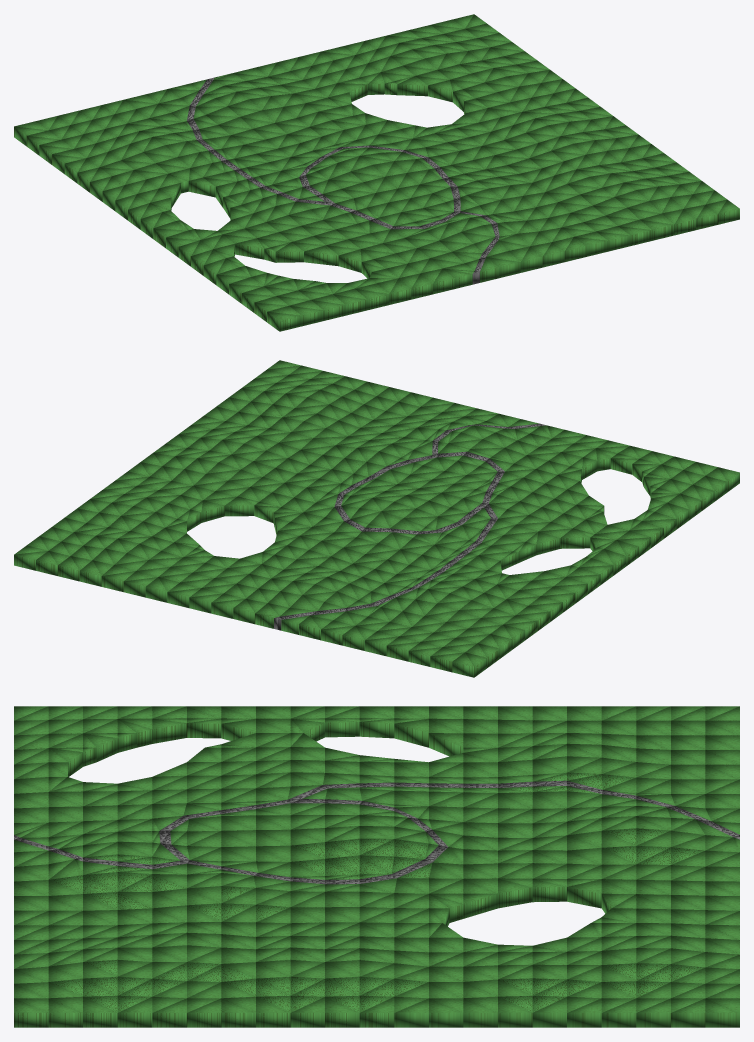
The model's file is rock_kicking_park_ground_collision.glb.
3 renders of one model, top to bottom at view 1: azimuth 30°, elevation 25°; view 2: azimuth 150°, elevation 25°; view 3: azimuth 270°, elevation 25°, orthographic. The views are drawn at different scales.
Visible parts, largest first — view 1: GroundIntactNoTrees.463-convcolonly, GroundIntactNoTrees.137-convcolonly; view 2: no part large enough to name; view 3: GroundIntactNoTrees.692-convcolonly, GroundIntactNoTrees.699-convcolonly, GroundIntactNoTrees.198-convcolonly, GroundIntactNoTrees.691-convcolonly, GroundIntactNoTrees.703-convcolonly, GroundIntactNoTrees.696-convcolonly, GroundIntactNoTrees.697-convcolonly, GroundIntactNoTrees.704-convcolonly, GroundIntactNoTrees.707-convcolonly, GroundIntactNoTrees.073-convcolonly, GroundIntactNoTrees.690-convcolonly, GroundIntactNoTrees.695-convcolonly (+21 smaller).
Boxes of the visible parts, x1,y1,x2,y2 form: GroundIntactNoTrees.463-convcolonly: (304, 245, 338, 266); GroundIntactNoTrees.137-convcolonly: (267, 311, 301, 331); GroundIntactNoTrees.692-convcolonly: (117, 997, 152, 1027); GroundIntactNoTrees.699-convcolonly: (359, 997, 394, 1027); GroundIntactNoTrees.198-convcolonly: (325, 997, 359, 1027); GroundIntactNoTrees.691-convcolonly: (83, 997, 117, 1027); GroundIntactNoTrees.703-convcolonly: (498, 997, 532, 1027); GroundIntactNoTrees.696-convcolonly: (256, 997, 290, 1027); GroundIntactNoTrees.697-convcolonly: (290, 997, 324, 1027); GroundIntactNoTrees.704-convcolonly: (532, 997, 566, 1027); GroundIntactNoTrees.707-convcolonly: (601, 998, 636, 1027); GroundIntactNoTrees.073-convcolonly: (498, 878, 532, 908); GroundIntactNoTrees.690-convcolonly: (48, 998, 82, 1027); GroundIntactNoTrees.695-convcolonly: (187, 998, 221, 1027).
Size of the model in its own units: 500 by 21.9 by 500.
2 materials, 2 textured.
